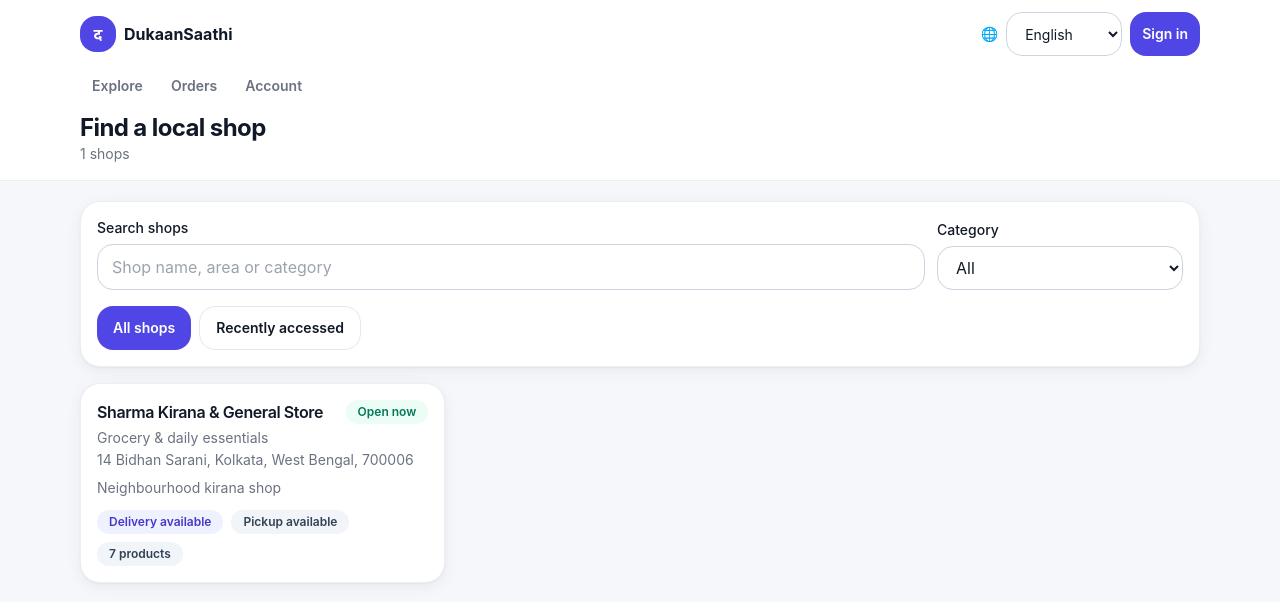
Scenario: ExplorePage (guest browsing) › switches to the Recently accessed view and explains when it is empty
Expected: the heading "Sharma Kirana & General Store" is shown, [97,400,323,424]
Click the tab "Recently accessed" at [280, 328], box [199,306,361,350]
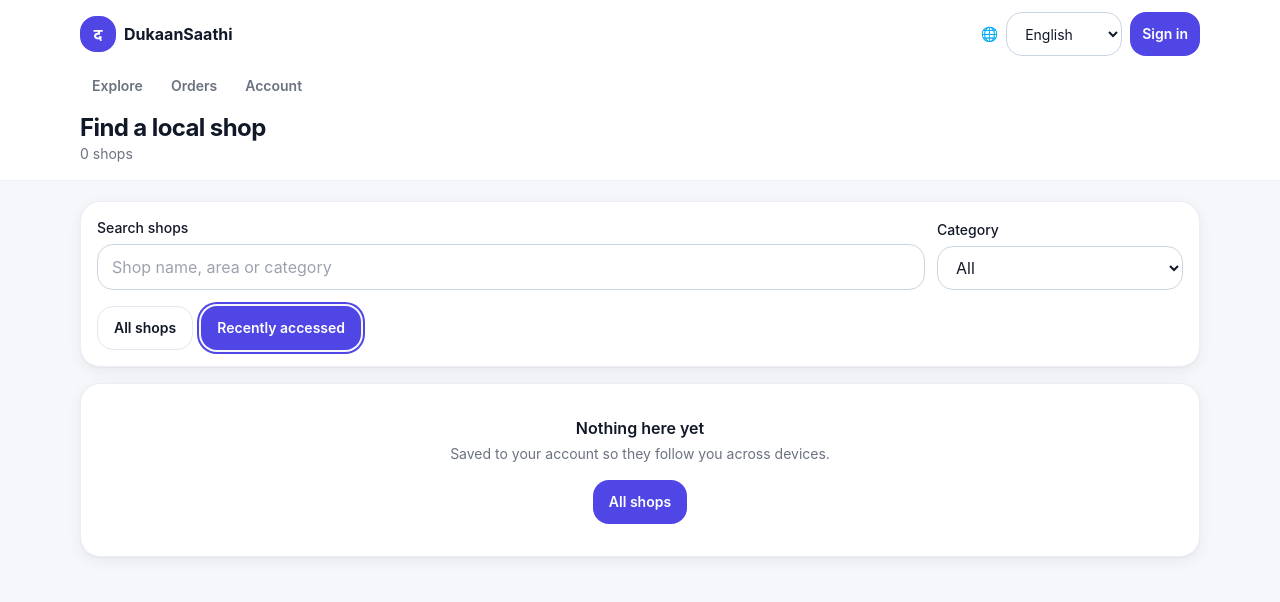
Result: the text "Saved to your account so they follow you across devices." is shown at [450,445,830,462]
